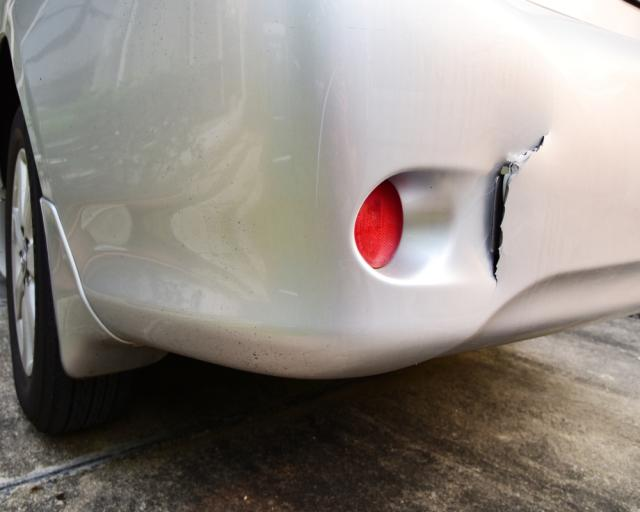crack: (491, 131, 549, 288)
